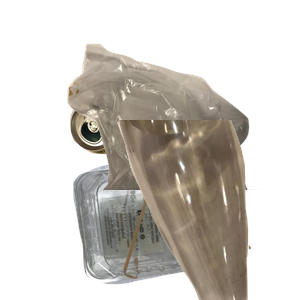glass: (115, 120, 300, 300)
metal: (67, 87, 206, 234)
plastic: (71, 154, 300, 300)
trash: (65, 41, 300, 221)
